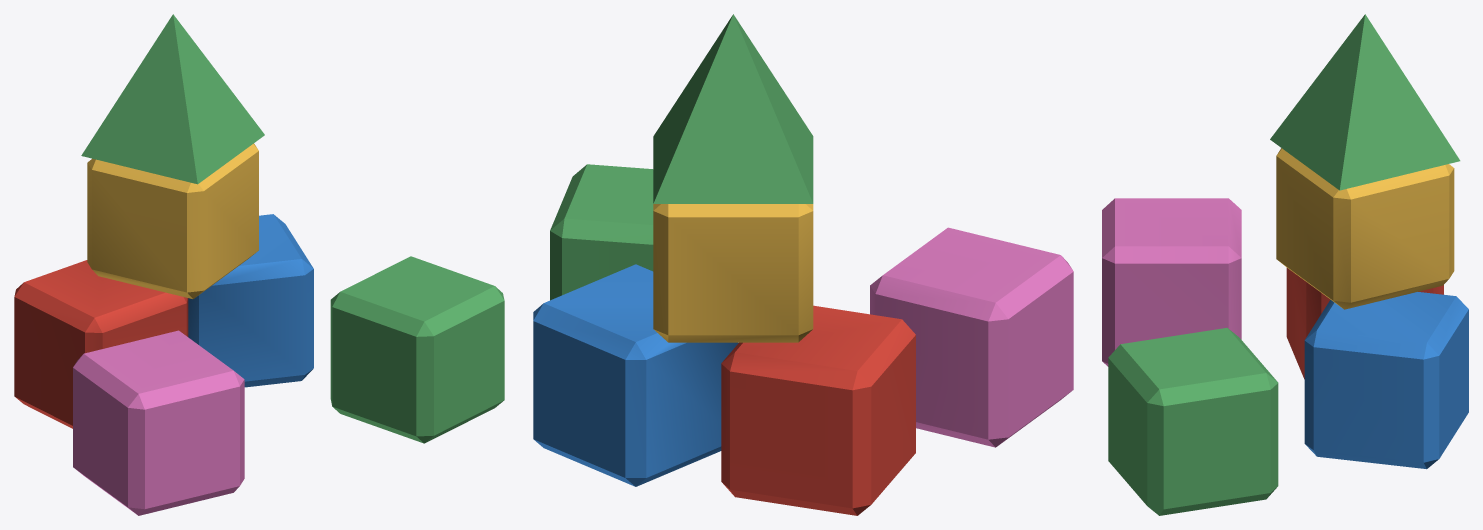
Rendered from toyBlocks.glb.
3 views of the same model, side by side, from view 1: azimuth 30°, elevation 25°; view 2: azimuth 150°, elevation 25°; view 3: azimuth 270°, elevation 25° (orthographic). The views are drawn at different scales.
Visible parts, largest first — view 1: toyBlocks; view 2: toyBlocks; view 3: toyBlocks.
Boxes of the visible parts, bbox=[...] form: toyBlocks: bbox=[14, 14, 504, 515]; toyBlocks: bbox=[533, 14, 1073, 515]; toyBlocks: bbox=[1102, 14, 1468, 515].
Bounding box in the file's own units: 0.2221 × 0.2 × 0.1708.
